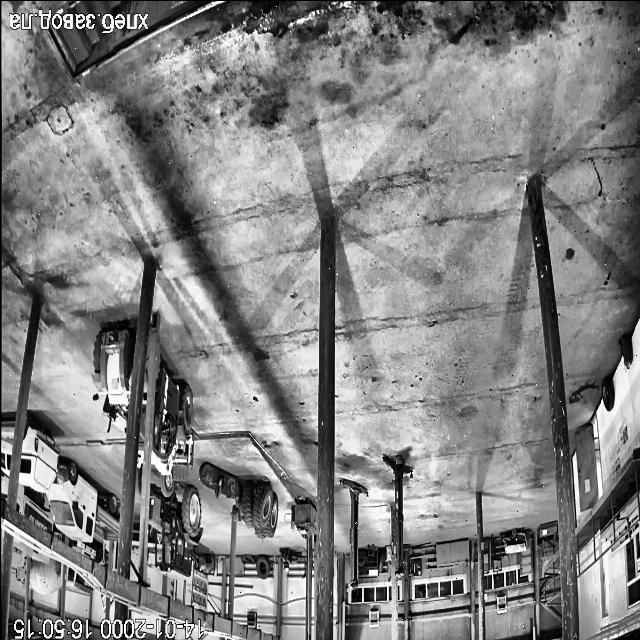class6: (139, 351, 192, 475), (148, 474, 202, 579), (92, 328, 134, 431), (136, 469, 140, 494), (140, 532, 144, 535), (147, 364, 150, 366)
class7: (47, 460, 119, 541), (20, 412, 59, 492), (16, 484, 52, 532), (30, 557, 64, 595), (14, 538, 48, 562), (0, 422, 14, 475), (74, 540, 104, 564), (66, 567, 92, 594), (16, 556, 24, 581), (0, 476, 8, 498), (145, 377, 147, 378), (146, 372, 146, 373)
tractor: (619, 334, 632, 368)
truck: (383, 455, 412, 576), (340, 479, 368, 588)
